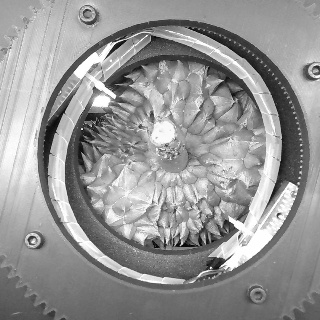base: (150, 152, 193, 179)
end: (150, 120, 176, 145)
